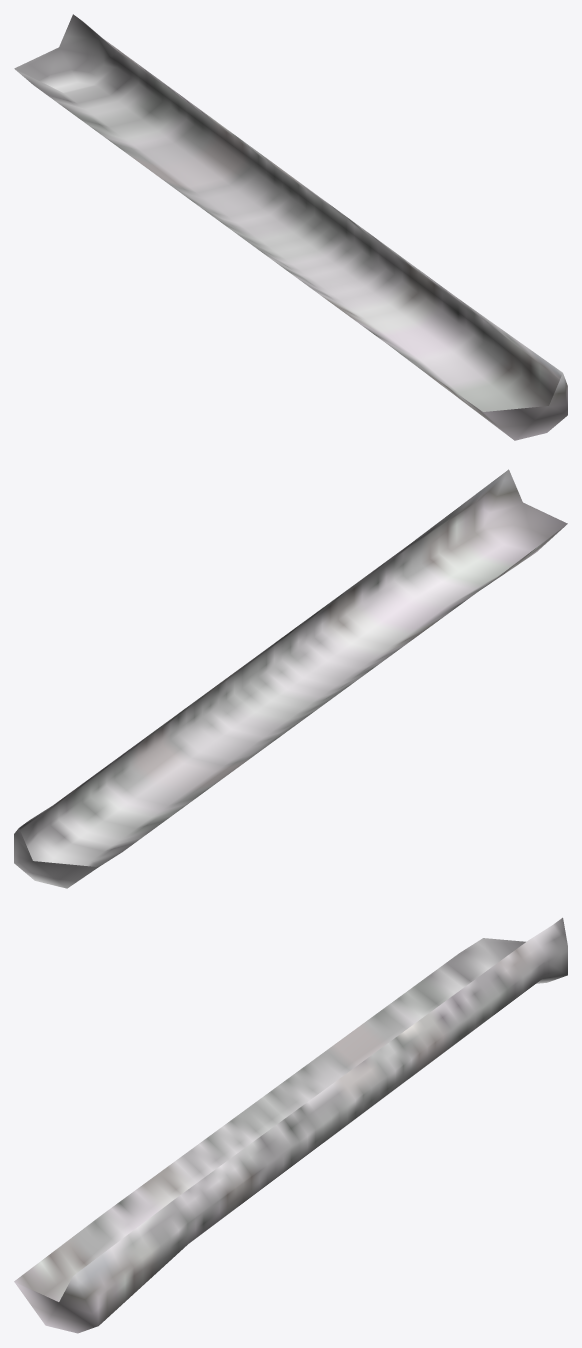
3 renders of one model, top to bottom at view 1: azimuth 30°, elevation 25°; view 2: azimuth 150°, elevation 25°; view 3: azimuth 330°, elevation 25°, orthographic.
Visible parts, largest first — view 1: wg_r_c_f; view 2: wg_r_c_f; view 3: wg_r_c_f.
Boxes of the visible parts, x1,y1,x2,y2 form: wg_r_c_f: (14, 14, 567, 440); wg_r_c_f: (14, 469, 567, 888); wg_r_c_f: (14, 917, 567, 1333).
Bounding box in the file's own units: 0.2092 × 0.1523 × 2.04.
1 material, 1 textured.
